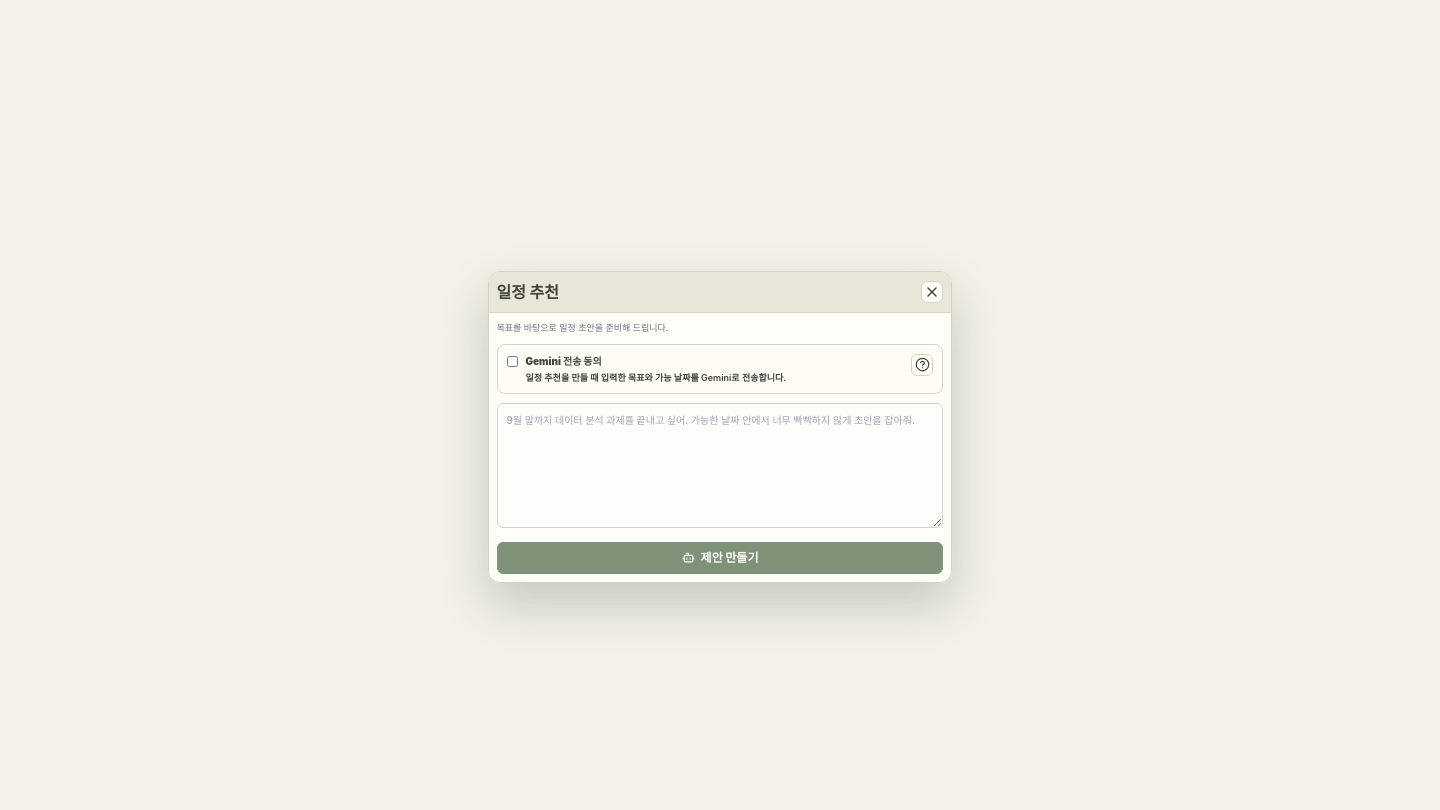
Scenario: AiSchedulePanel › blocks draft creation until Gemini consent is enabled
Type "이직 준비 계획 잡아줘" into the text box with placeholder "9월 말까지 데이터 분석 과제를 끝내고 싶어. 가능한 날짜 안에서 너무 빡빡하지 않게 초안을 잡아줘.".
click(720, 465); type("이직 준비 계획 잡아줘")  # box [496,403,944,528]
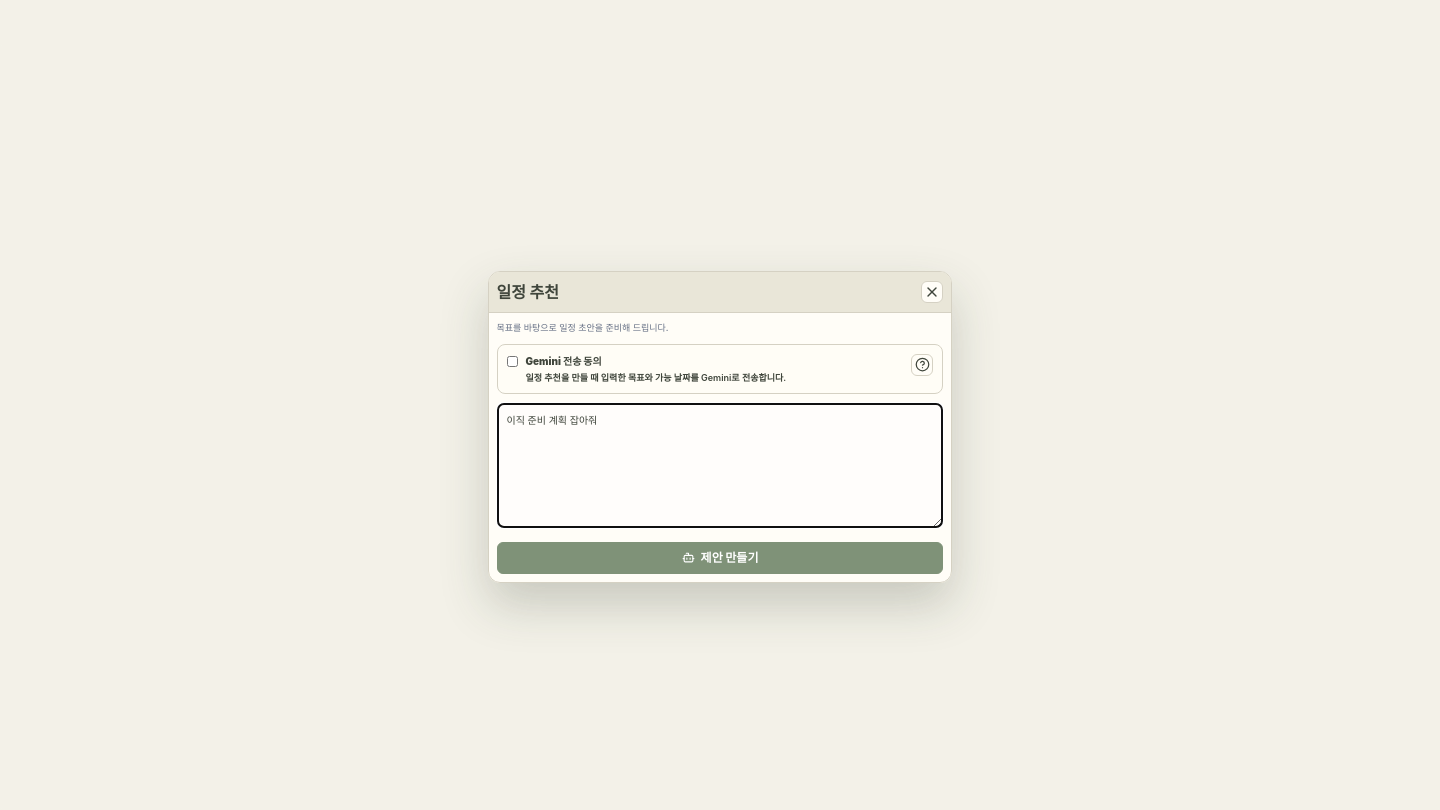
Click the button "제안 만들기".
click(720, 558)  # box [496,542,944,574]
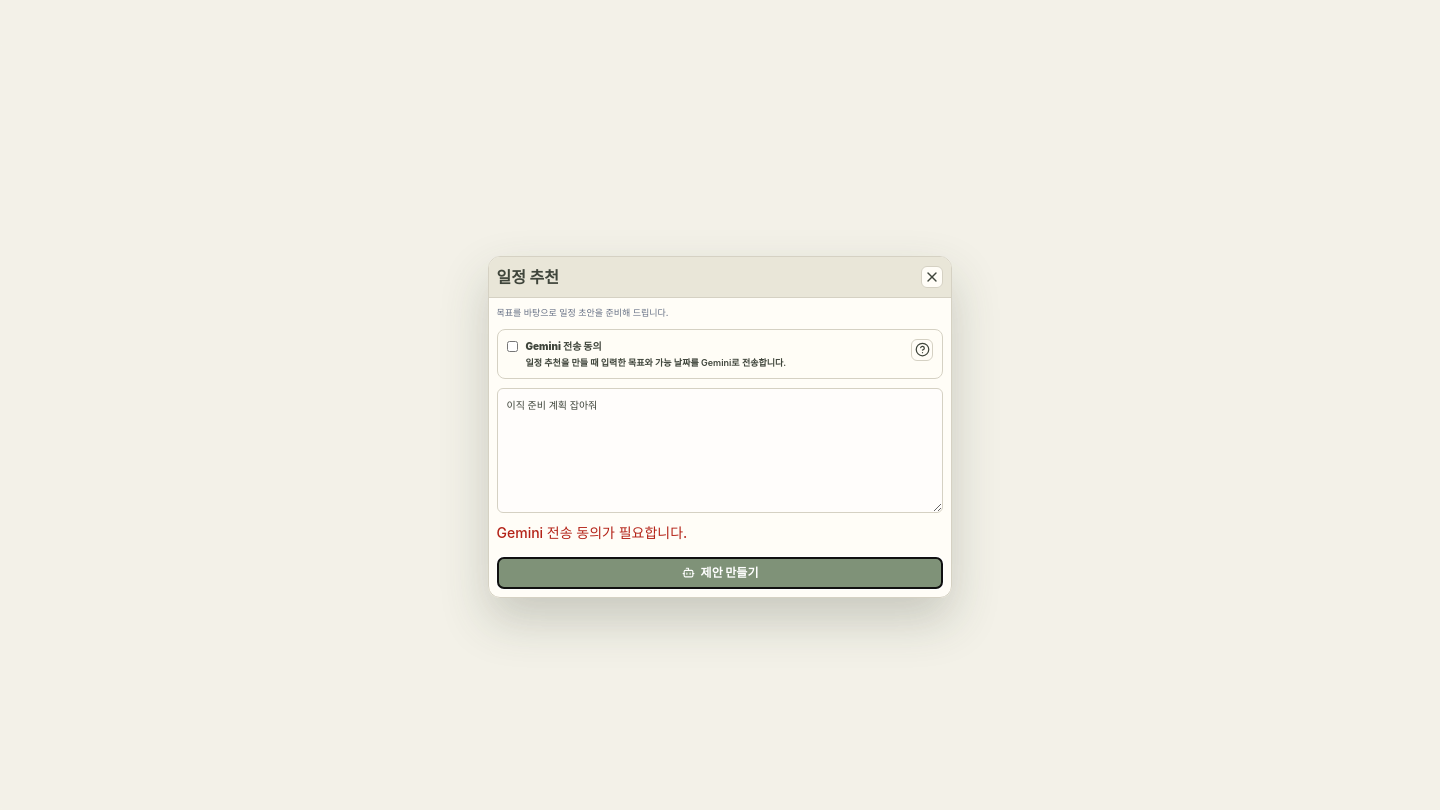
Expected: the text "Gemini 전송 동의가 필요합니다." is shown, [496,524,687,541]
